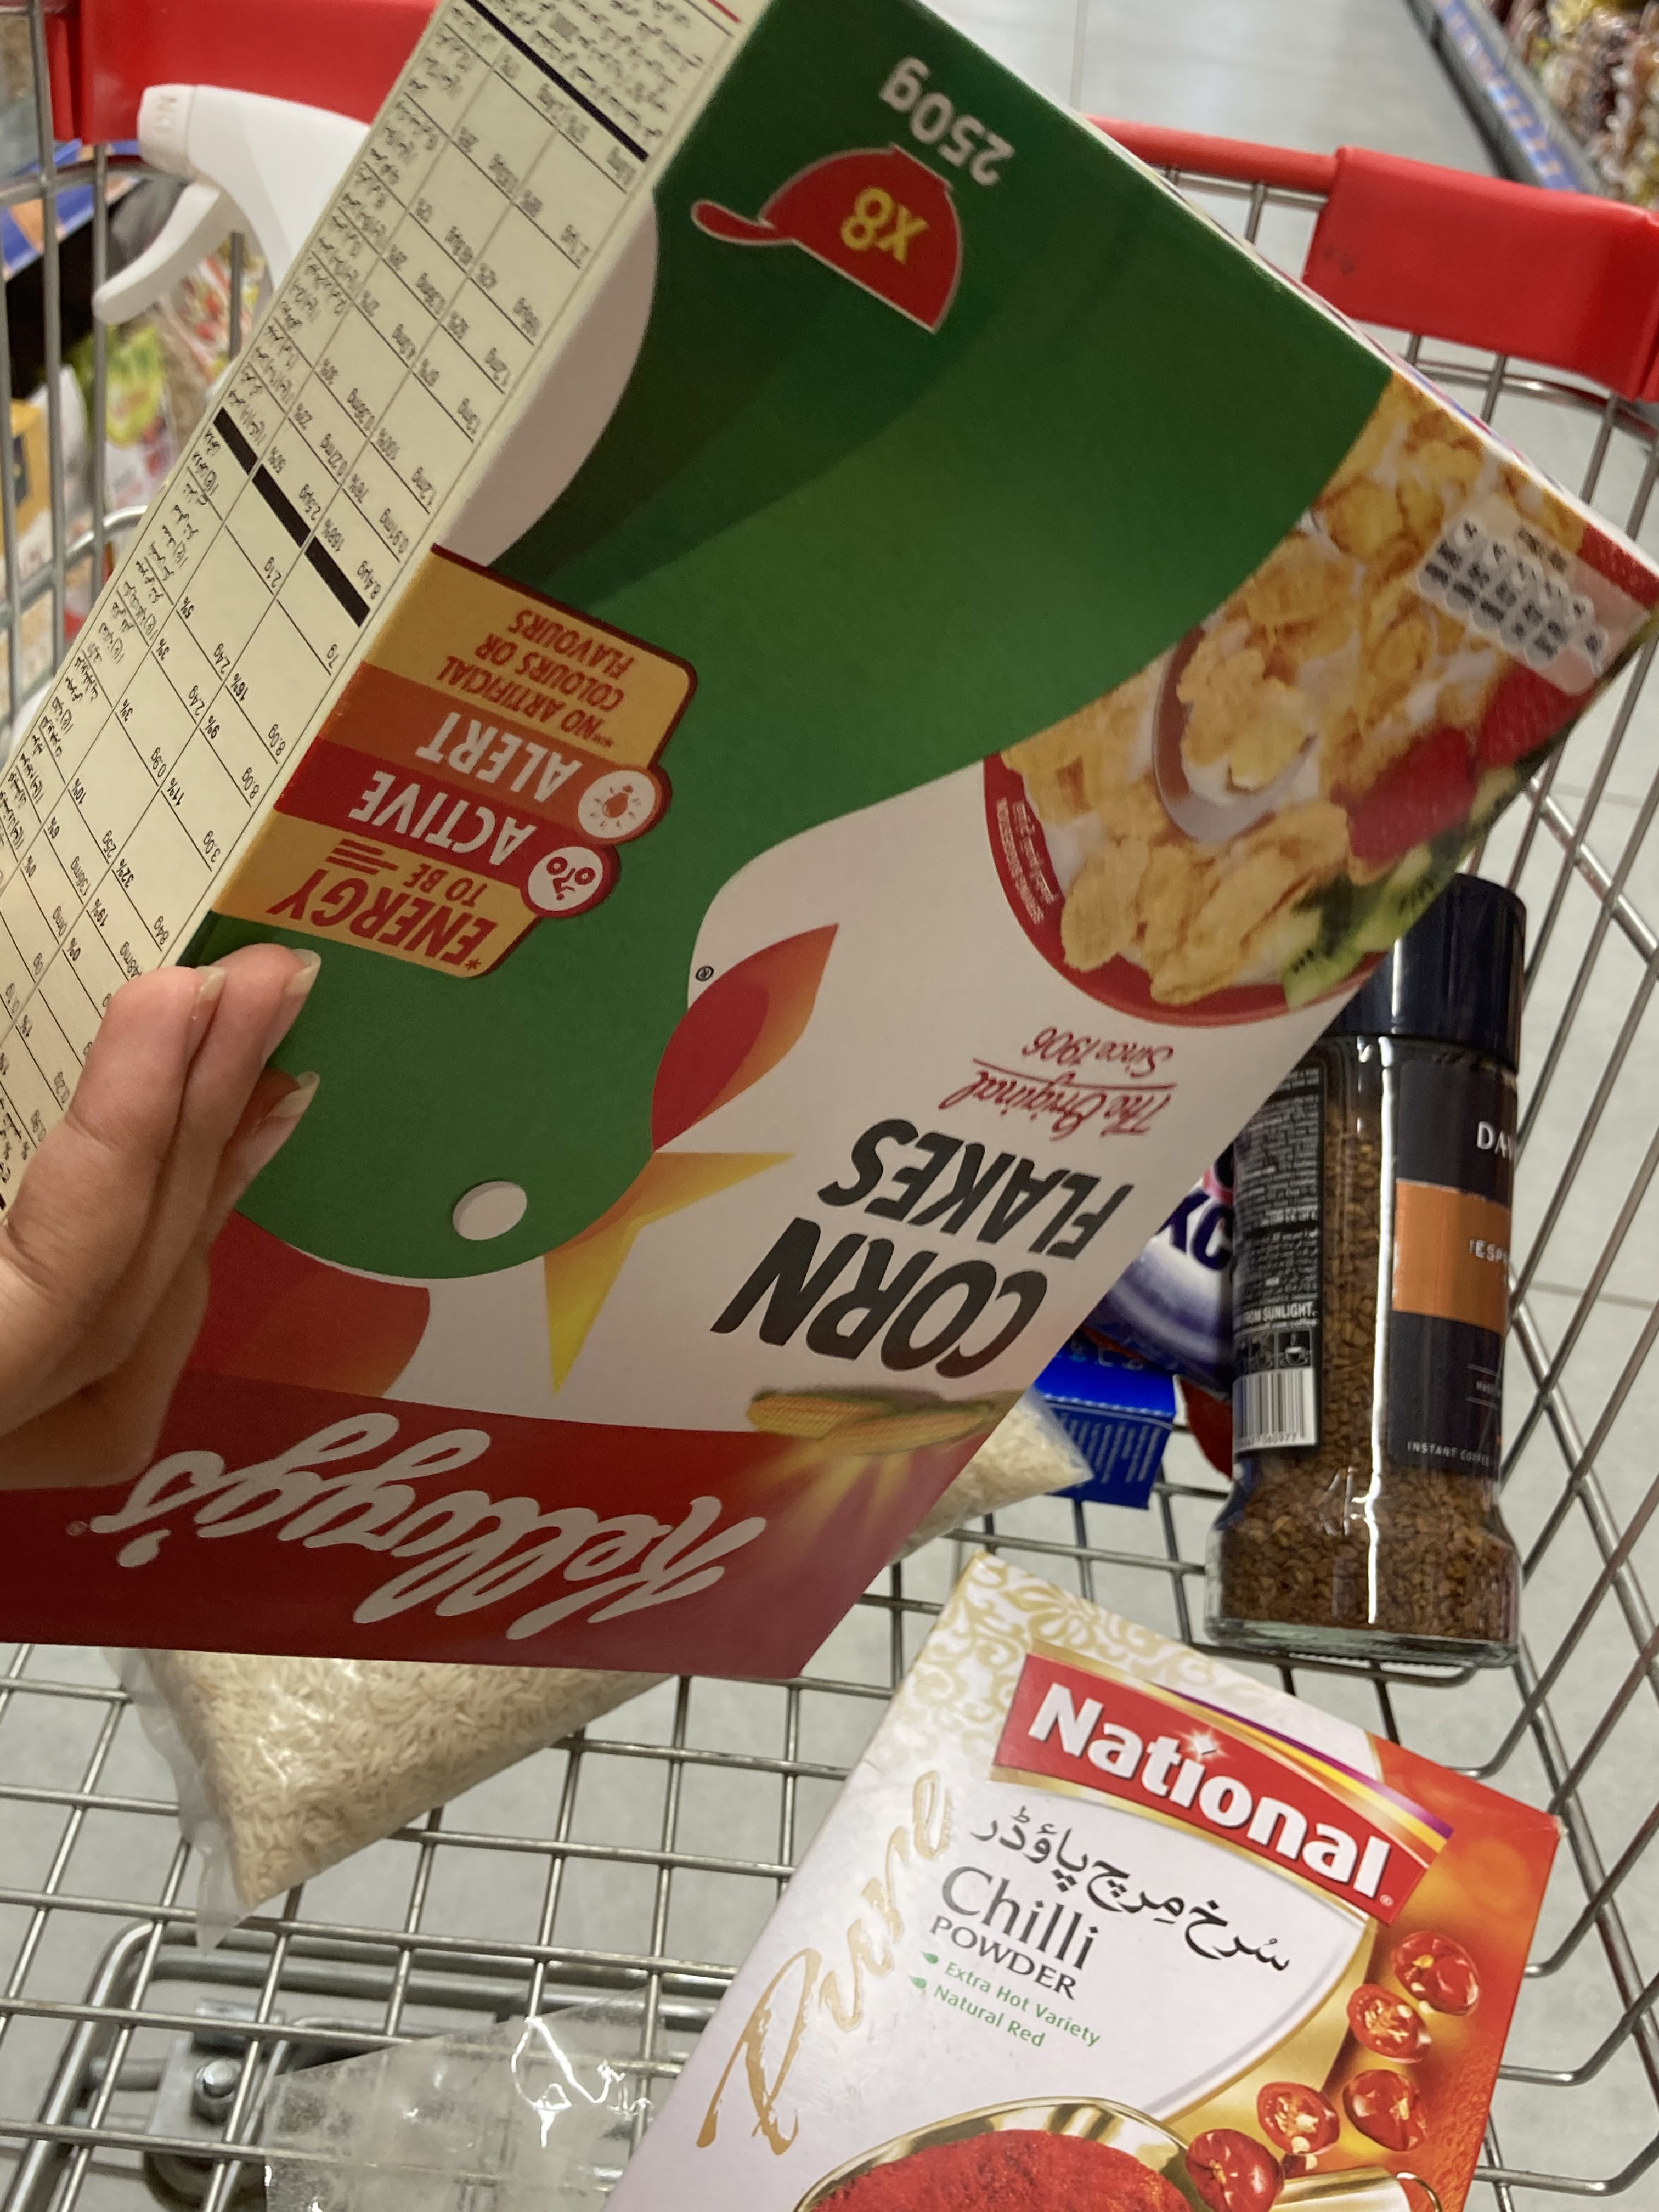Kellogg's Corn Flakes: (2, 9, 1659, 1693)
